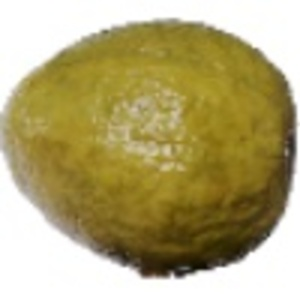goiaba: (3, 11, 294, 279)
